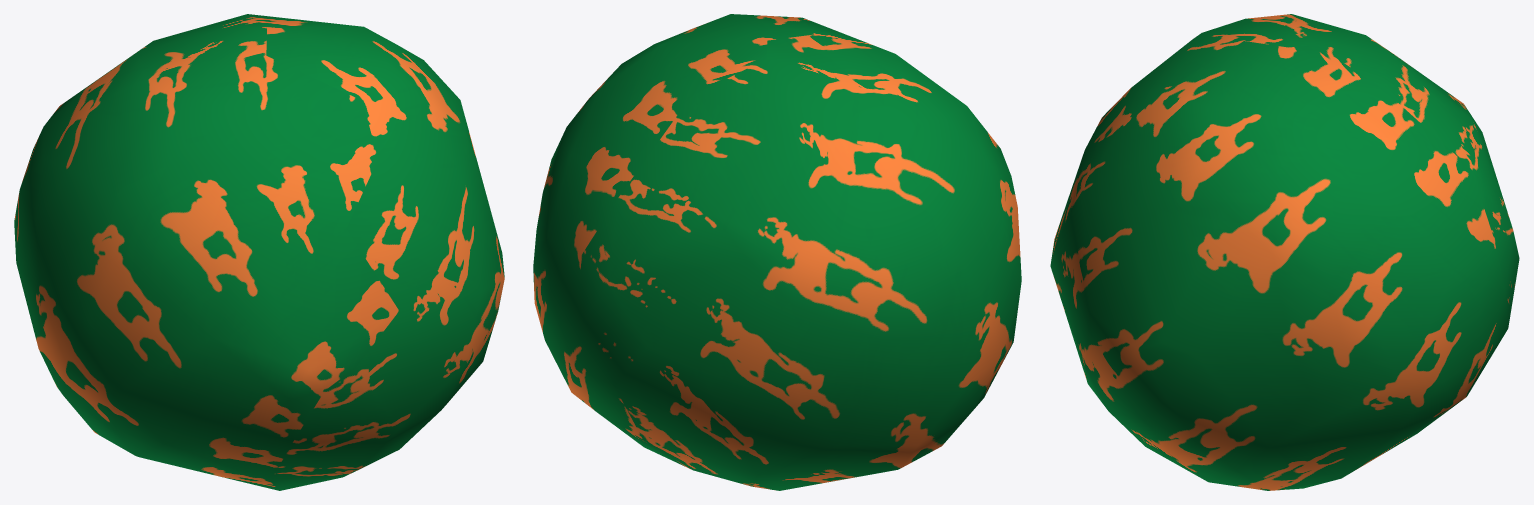
The model's file is eff_effectproxies_claygun_projectile02.fbx.
3 views of the same model, side by side, from view 1: azimuth 30°, elevation 25°; view 2: azimuth 150°, elevation 25°; view 3: azimuth 270°, elevation 25° (orthographic). The views are drawn at different scales.
Visible parts, largest first — view 1: claygun_projectile02; view 2: claygun_projectile02; view 3: claygun_projectile02.
Part boxes in pixels (x1,y1,x2,y2): claygun_projectile02: (14,14,504,490); claygun_projectile02: (533,14,1021,490); claygun_projectile02: (1050,14,1519,490).
Bounding box in the file's own units: 1.54 × 1.53 × 1.54.
